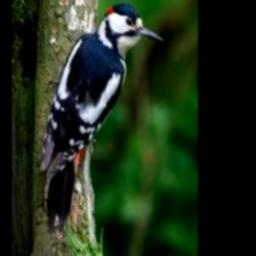Woodpecker: (39, 3, 163, 232)
